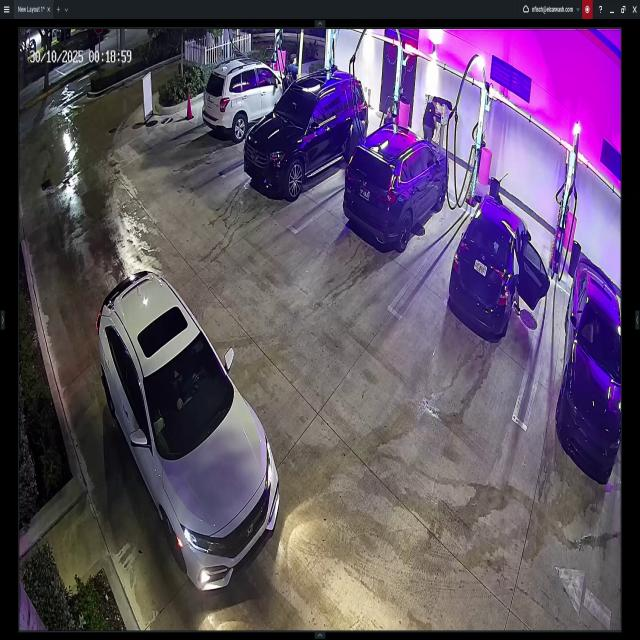Car: (93, 266, 279, 589), (241, 68, 366, 202), (445, 180, 547, 343), (339, 117, 449, 250), (562, 243, 618, 477), (203, 52, 294, 140)
